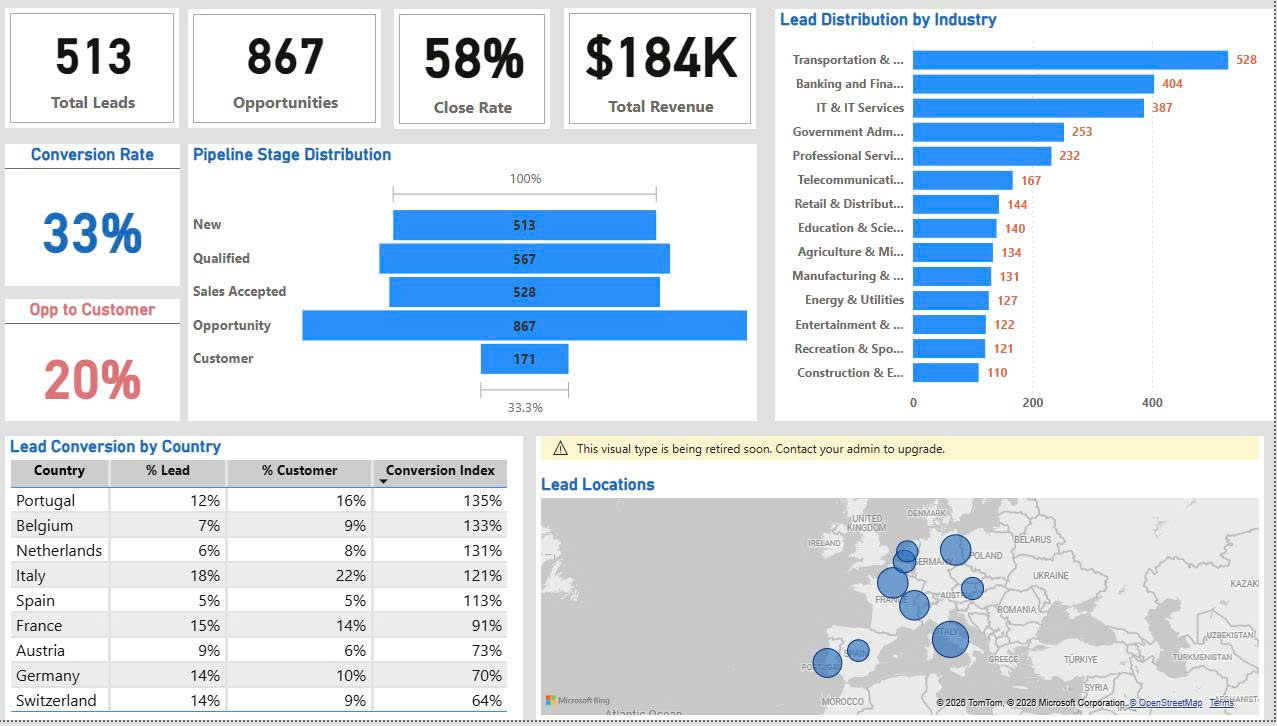

The dashboard page shown, as its layout file describes it:
{"tool":"powerbi","page":{"name":"Pipeline Health","canvas":[1280,720],"ordinal":0},"visuals":[{"type":"cardVisual","fields":{"Data":["CRM_data.Total Leads"]},"box":[11,8,174,120],"z":0},{"type":"cardVisual","fields":{"Data":["CRM_data.Total Opportunity"]},"box":[194.4,8.9,192.2,118.9],"z":1000},{"type":"cardVisual","fields":{"Data":["CRM_data.Win Rate"]},"box":[400,8.9,155.6,120],"z":2000},{"type":"cardVisual","fields":{"Data":["CRM_data.Total Revenue"]},"box":[570,7.8,192.2,121.1],"z":3000},{"type":"funnel","title":"Pipeline Stage Distribution","fields":{"Category":["CRM_data.Status"],"Y":["CountNonNull(CRM_data.Organization)"]},"box":[194.4,144.4,568.9,276.7],"z":4000},{"type":"clusteredBarChart","title":"Lead Distribution by Industry","fields":{"Category":["CRM_data.Industry"],"Y":["CountNonNull(CRM_data.Organization)"]},"box":[781.1,8.9,498.9,412.2],"z":5000},{"type":"map","title":"Lead Locations","fields":{"Y":["CRM_data.Lattitude"],"X":["CRM_data.Longitude"],"Size":["CountNonNull(CRM_data.Organization)"]},"box":[542.2,435.6,727.8,284.4],"z":6000},{"type":"cardVisual","title":"Conversion Rate","fields":{"Data":["CRM_data.Conversion Rate"]},"box":[11.1,144.4,174.4,141.1],"z":7000},{"type":"cardVisual","title":"Opp to Customer","fields":{"Data":["CRM_data.Opp to Customer"]},"box":[11.1,298.9,174.4,122.2],"z":8000},{"type":"tableEx","title":"Lead Conversion by Country","fields":{"Values":["CRM_data.Country","CRM_data.Total Leads","CRM_data.Total Customers","CRM_data.Conversion Index"]},"box":[11.1,435.6,517.8,284.4],"z":9000}]}

Visuals, with their boxes in screenshot pixels (x1, y1, x2, y2), scaled from the page's 1280x720 canvas onto the 1277x726 screenshot:
cardVisual - CRM_data.Total Leads: 11,8,185,129
cardVisual - CRM_data.Total Opportunity: 194,9,386,129
cardVisual - CRM_data.Win Rate: 399,9,554,130
cardVisual - CRM_data.Total Revenue: 569,8,760,130
"Pipeline Stage Distribution" funnel: 194,146,762,425
"Lead Distribution by Industry" clusteredBarChart: 779,9,1276,425
"Lead Locations" map: 541,439,1267,725
"Conversion Rate" cardVisual: 11,146,185,288
"Opp to Customer" cardVisual: 11,301,185,425
"Lead Conversion by Country" tableEx: 11,439,528,725
